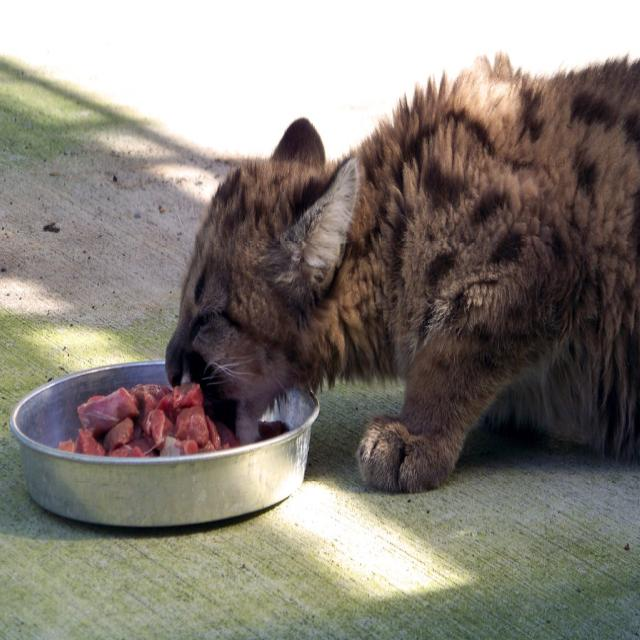Cat: (165, 49, 640, 493)
